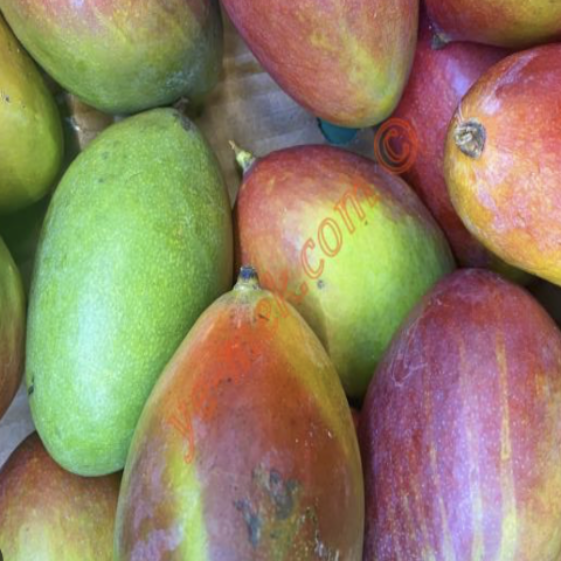mango: (21, 65, 237, 497), (102, 261, 381, 561), (214, 92, 460, 407), (343, 211, 560, 561)
